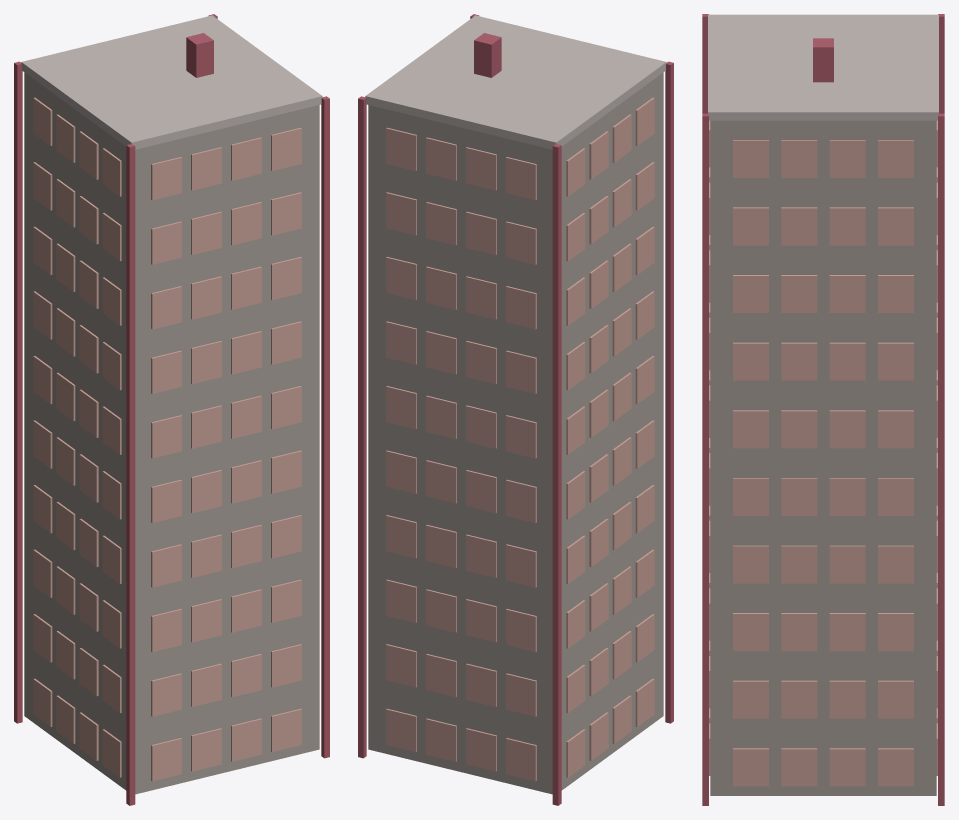
The model's file is tower_a.glb.
3 renders of one model, left to right at view 1: azimuth 30°, elevation 25°; view 2: azimuth 150°, elevation 25°; view 3: azimuth 270°, elevation 25°, orthographic. The views are drawn at different scales.
Bounding box in the file's own units: 9.09 × 30.08 × 9.09.
